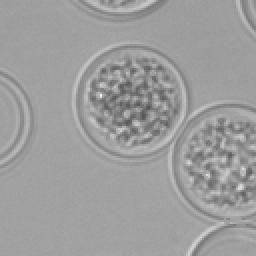picoshell: (74, 42, 188, 162), (168, 104, 254, 220), (0, 68, 32, 172), (186, 222, 254, 254), (72, 0, 166, 18), (236, 0, 256, 38)
